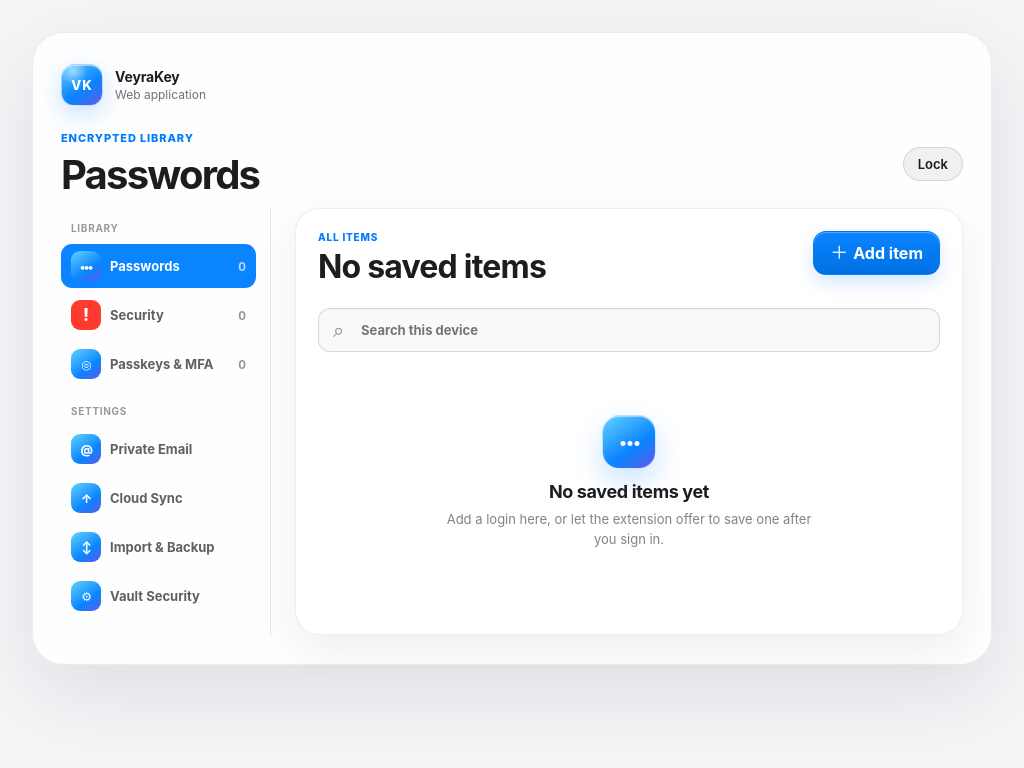
it: VaultScreen › locks an unlocked vault and returns to the password form
Expected: the heading "Passwords" is shown, top-left (61, 153), bottom-right (259, 196)
Click the button with aria-label "Lock Passwords" at (933, 164), box top-left (903, 147), bottom-right (963, 181)
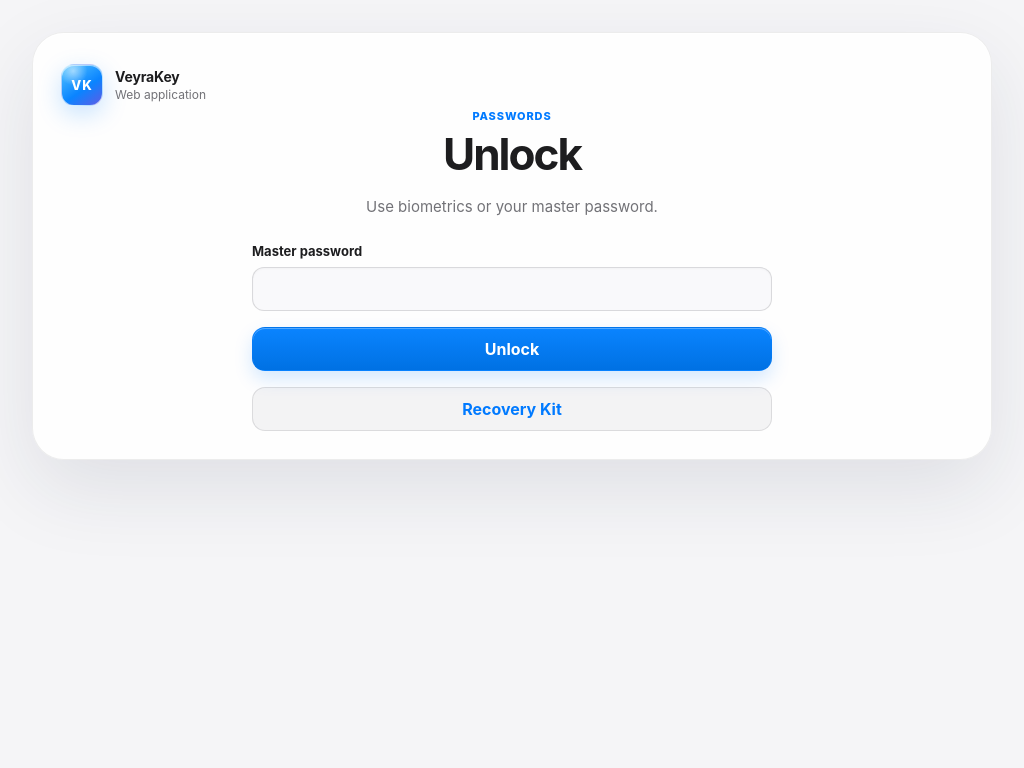
Expected: the password field labelled "Master password" is empty, top-left (252, 267), bottom-right (772, 311)
Expected: the heading "Unlock" is shown, top-left (443, 127), bottom-right (581, 181)
